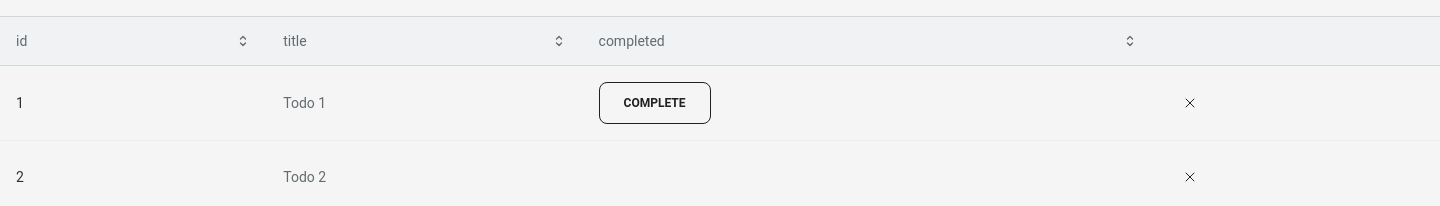
Test: TodosList › completes a todo when Complete button is clicked
The image size is (1440, 206).
Click the button "complete": (654, 103) [598,82,710,124]
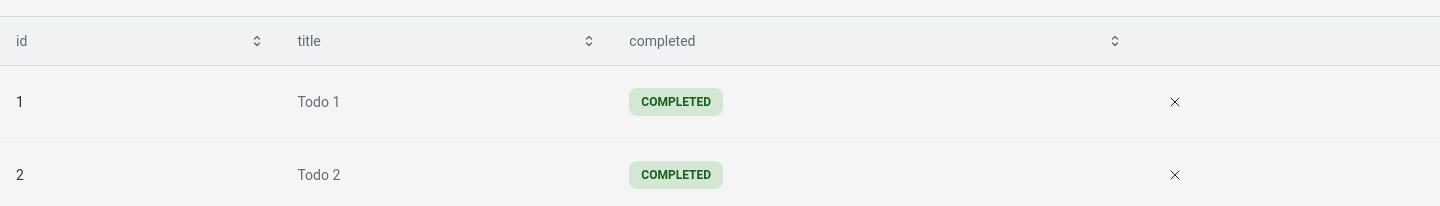
Now the row with test id "todo-item" shows "completed", box [641,95,711,109]
